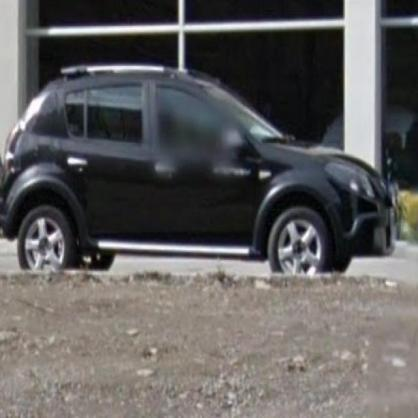car: (4, 69, 406, 279)
